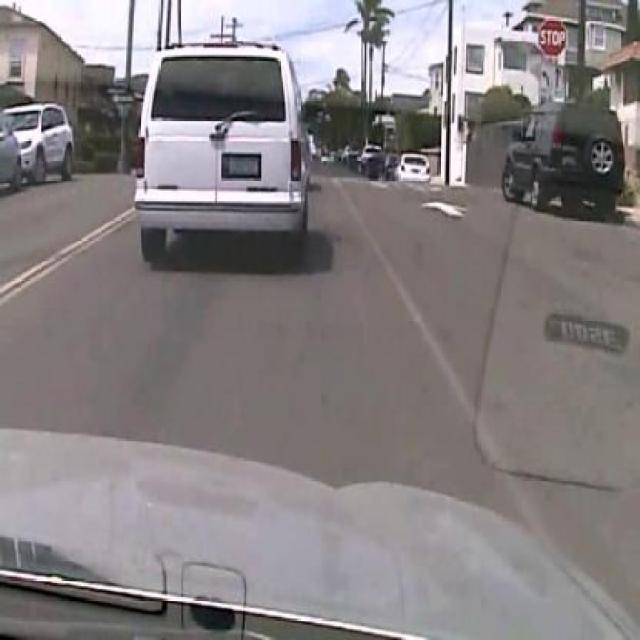Stop: (534, 13, 568, 58)
